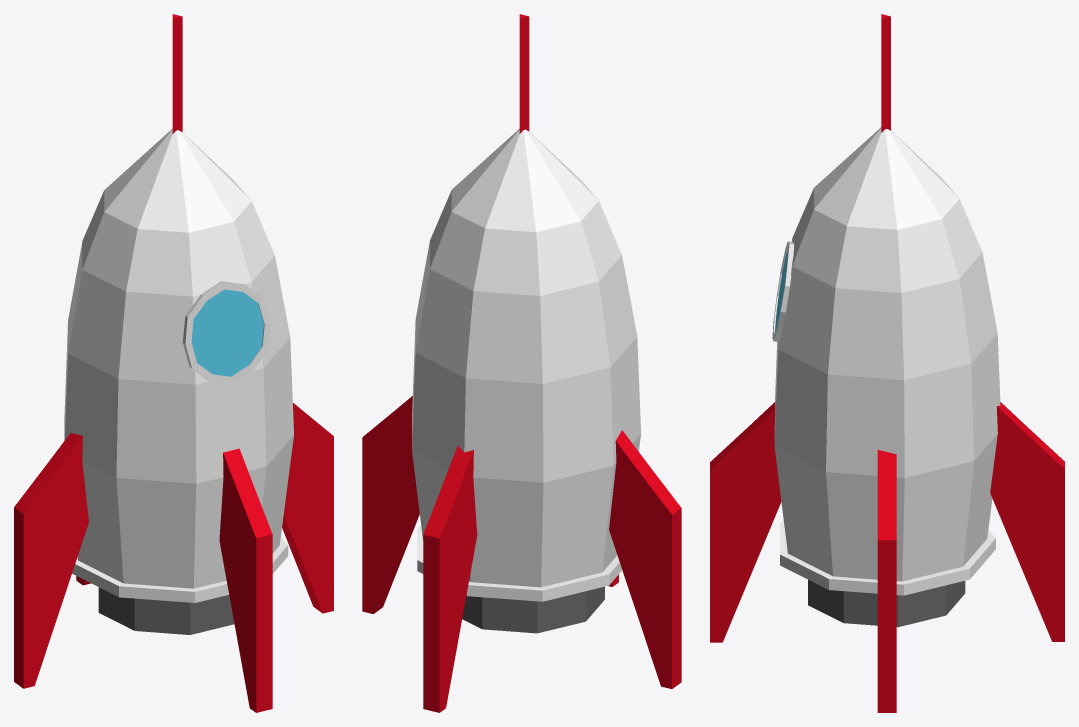
File: Rocket.fbx
3 renders of one model, left to right at view 1: azimuth 30°, elevation 25°; view 2: azimuth 150°, elevation 25°; view 3: azimuth 270°, elevation 25°, orthographic.
Parts seen in each view (by area): view 1: Sphere, Sphere.002, Sphere.003, Sphere.001, Circle.001, Circle, Sphere.005; view 2: Sphere, Sphere.002, Sphere.004, Sphere.001, Sphere.005; view 3: Sphere, Sphere.004, Sphere.003, Sphere.001, Sphere.005, Circle.
Part boxes in pixels (box(x1,y1,x2,y2)): Sphere: box(64, 129, 293, 634); Sphere.002: box(14, 433, 88, 688); Sphere.003: box(219, 448, 272, 712); Sphere.001: box(282, 403, 333, 613); Circle.001: box(191, 289, 263, 376); Circle: box(182, 281, 270, 384); Sphere.005: box(172, 14, 182, 133); Sphere: box(412, 129, 640, 633); Sphere.002: box(609, 430, 681, 688); Sphere.004: box(423, 446, 477, 712); Sphere.001: box(362, 396, 419, 613); Sphere.005: box(519, 14, 529, 133); Sphere: box(774, 127, 1000, 627); Sphere.004: box(990, 402, 1064, 641); Sphere.003: box(710, 402, 781, 642); Sphere.001: box(877, 450, 896, 712); Sphere.005: box(881, 14, 890, 132); Circle: box(772, 241, 794, 341).
Size of the model in its own units: 325 by 633 by 326.
